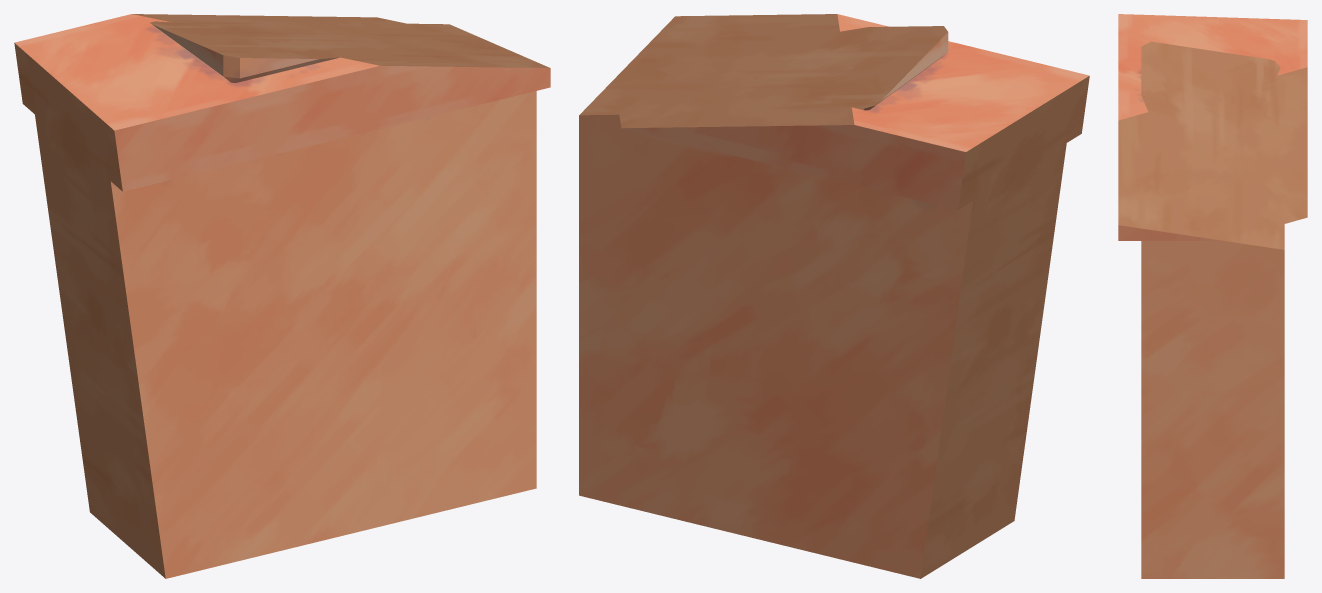
Rendered from parapet_crenel_s03.fbx.
3 views of the same model, side by side, from view 1: azimuth 30°, elevation 25°; view 2: azimuth 150°, elevation 25°; view 3: azimuth 270°, elevation 25° (orthographic). The views are drawn at different scales.
Visible parts, largest first — view 1: parapet_crenel_s03; view 2: parapet_crenel_s03; view 3: parapet_crenel_s03.
Boxes of the visible parts, x1,y1,x2,y2 form: parapet_crenel_s03: (14, 14, 550, 578); parapet_crenel_s03: (579, 14, 1089, 578); parapet_crenel_s03: (1118, 14, 1307, 578).
Size of the model in its own units: 2.89 by 3.19 by 1.32.
